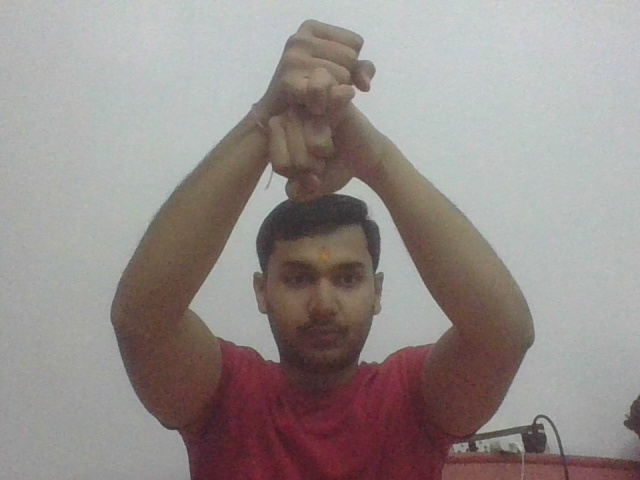S: (259, 15, 370, 196)
